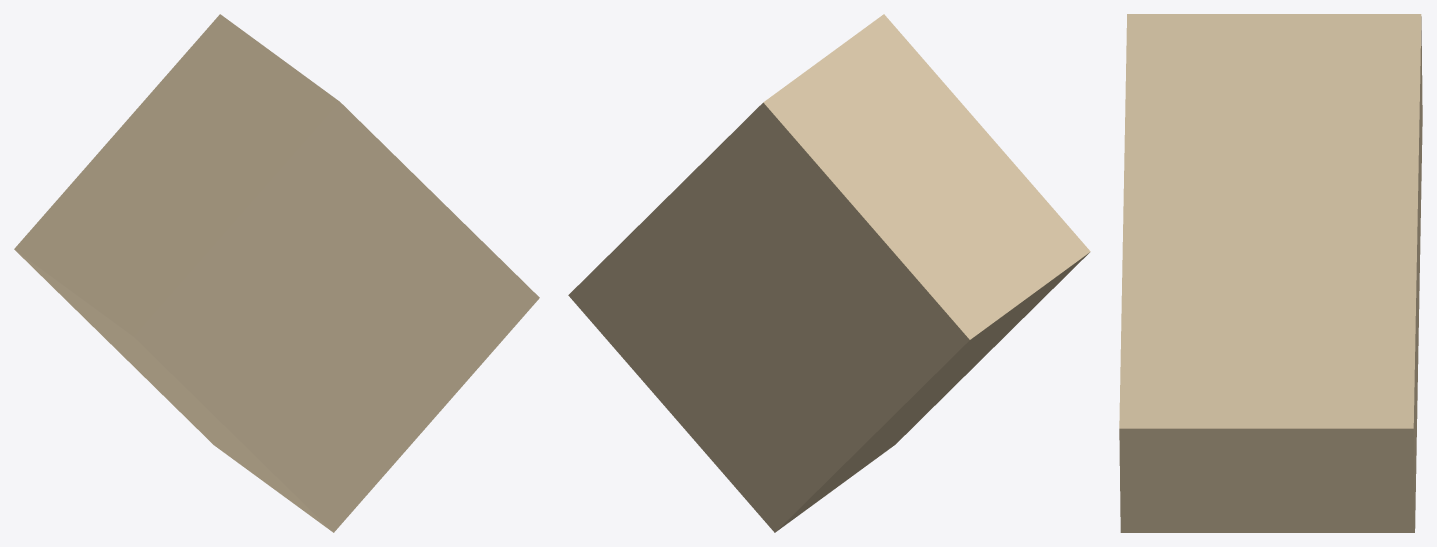
3 renders of one model, left to right at view 1: azimuth 30°, elevation 25°; view 2: azimuth 150°, elevation 25°; view 3: azimuth 270°, elevation 25°, orthographic. The views are drawn at different scales.
Visible parts, largest first — view 1: urn:npust:smart-agriculture-management-platform:building:gue; view 2: urn:npust:smart-agriculture-management-platform:building:gue; view 3: urn:npust:smart-agriculture-management-platform:building:gue.
Part boxes in pixels (x1,y1,x2,y2): urn:npust:smart-agriculture-management-platform:building:gue: (14, 14, 539, 532); urn:npust:smart-agriculture-management-platform:building:gue: (568, 14, 1090, 532); urn:npust:smart-agriculture-management-platform:building:gue: (1119, 14, 1422, 532).
Size of the model in its own units: 12.59 by 12.77 by 6.7.
